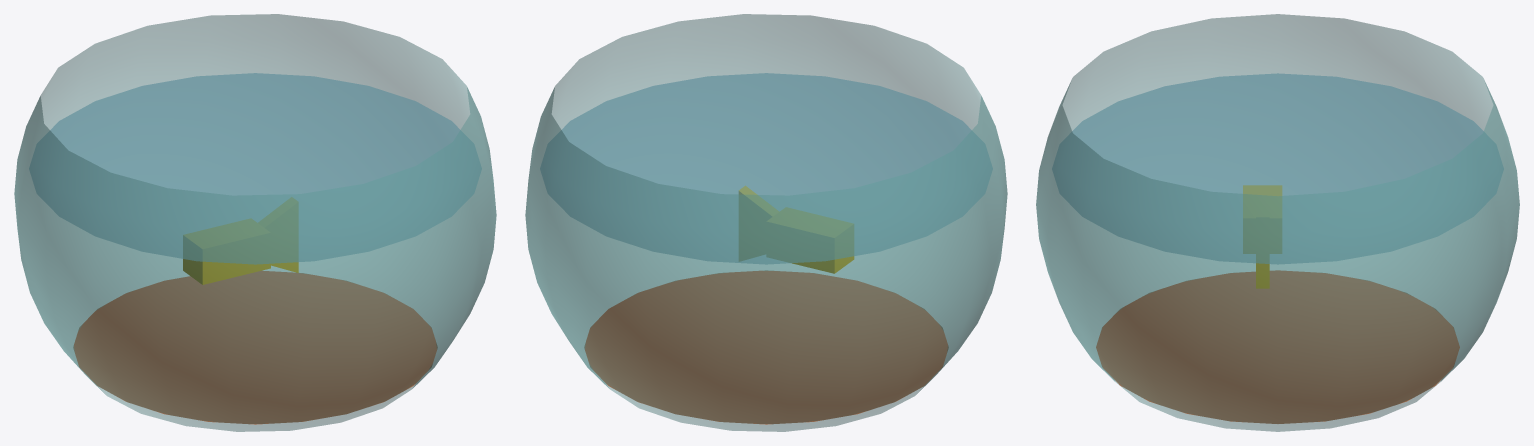
File: vissekom.fbx
3 views of the same model, side by side, from view 1: azimuth 30°, elevation 25°; view 2: azimuth 150°, elevation 25°; view 3: azimuth 270°, elevation 25° (orthographic).
Parts seen in each view (by area): view 1: vis1; view 2: vis1; view 3: vis1.
Part boxes in pixels (x1=…): vis1: x1=14, y1=14, x2=496, y2=431; vis1: x1=525, y1=14, x2=1007, y2=431; vis1: x1=1036, y1=14, x2=1519, y2=431.
Bounding box in the file's own units: 12.3 × 7.14 × 12.3.
